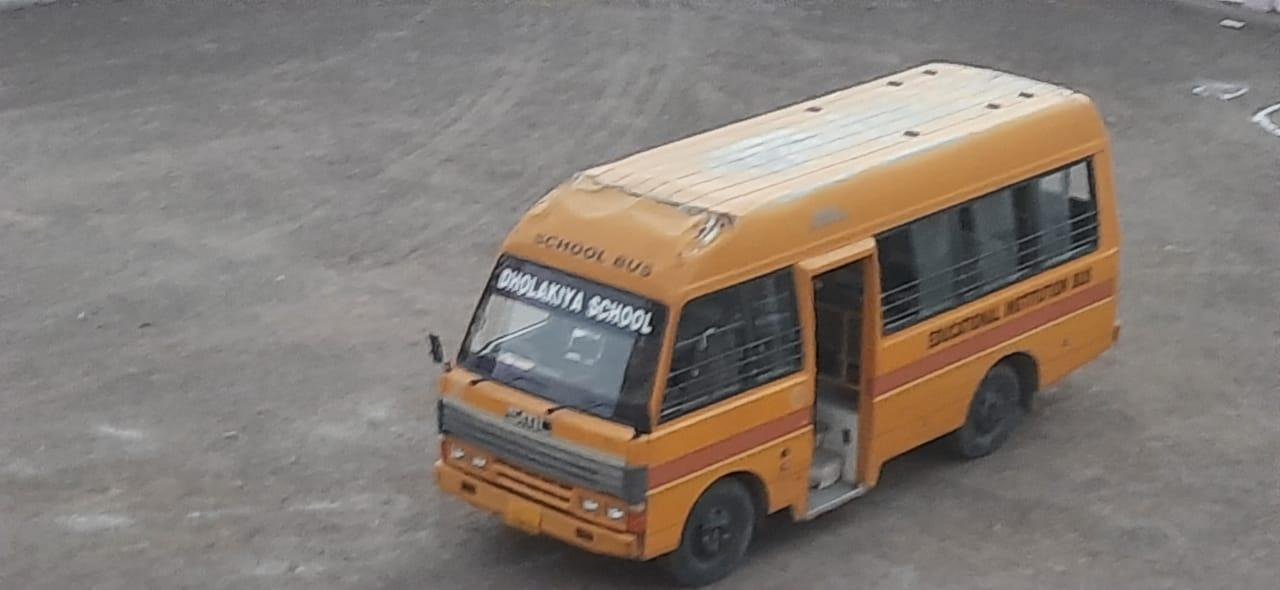Bus: (418, 55, 1164, 584)
